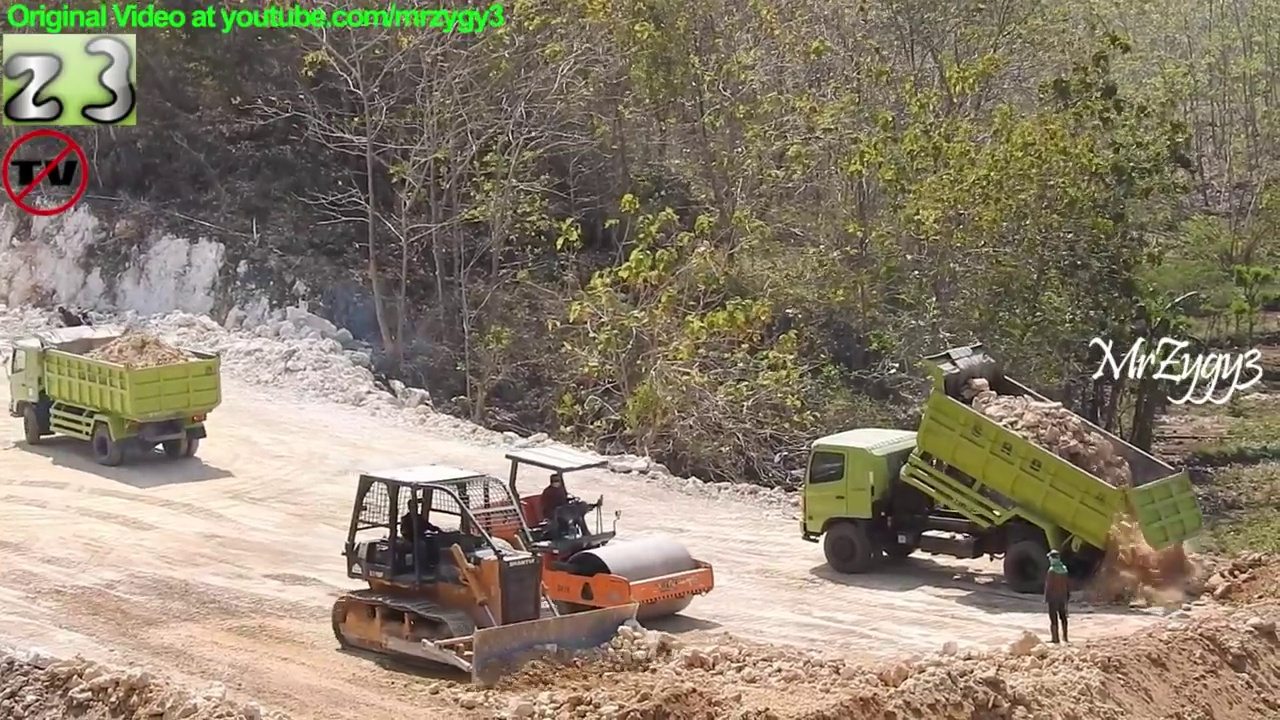bulldozer: (329, 459, 648, 685)
compactor: (437, 434, 719, 645)
truck: (785, 338, 1212, 598), (3, 314, 226, 471)
